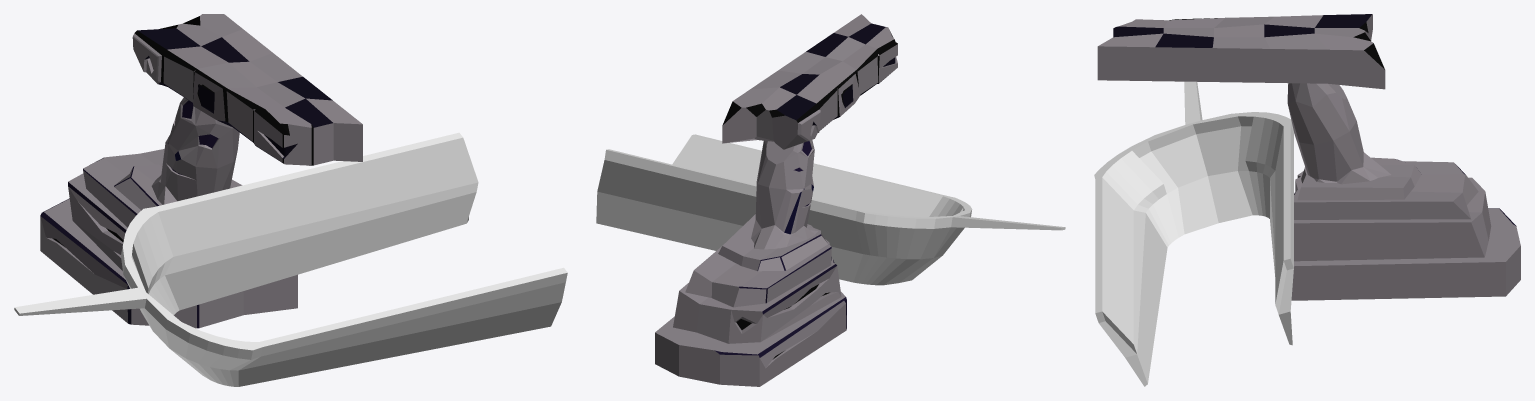
The model's file is RoCk.v1.fbx.
3 views of the same model, side by side, from view 1: azimuth 30°, elevation 25°; view 2: azimuth 150°, elevation 25°; view 3: azimuth 270°, elevation 25° (orthographic). The views are drawn at different scales.
Parts seen in each view (by area): view 1: 큐브.002, 큐브.001, 큐브, 아이코스피어; view 2: 큐브.002, 큐브, 큐브.001, 아이코스피어; view 3: 큐브.002, 큐브, 큐브.001, 아이코스피어.
Boxes of the visible parts, x1,y1,x2,y2 form: 큐브.002: (14,132,567,386); 큐브.001: (132,14,362,165); 큐브: (40,149,297,328); 아이코스피어: (151,97,239,204); 큐브.002: (596,134,1065,285); 큐브: (655,214,846,386); 큐브.001: (722,14,897,149); 아이코스피어: (751,140,818,249); 큐브.002: (1094,81,1293,386); 큐브: (1291,157,1520,300); 큐브.001: (1097,14,1385,89); 아이코스피어: (1287,83,1390,184).
Bounding box in the file's own units: 1636 × 851 × 1316.
